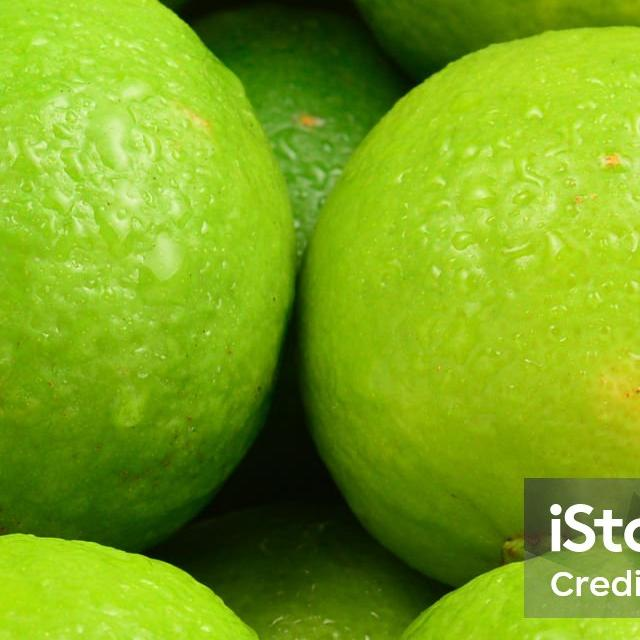lime: (293, 26, 640, 594)
